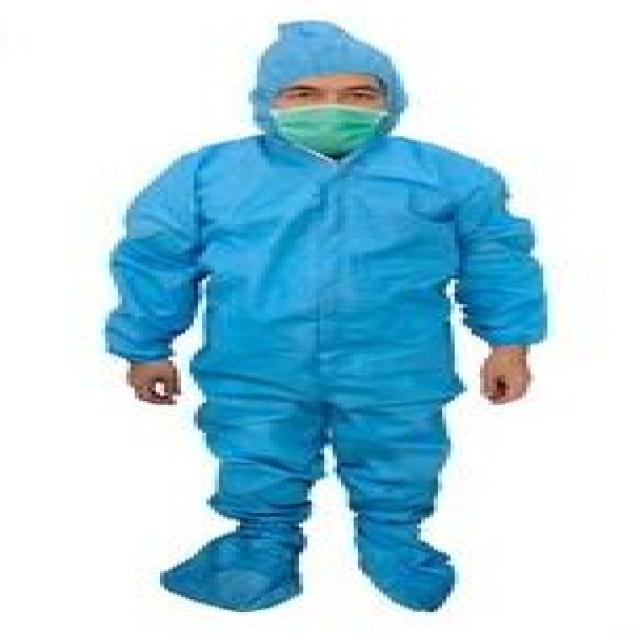Coverall: (59, 35, 573, 612)
Mask: (257, 101, 400, 153)
